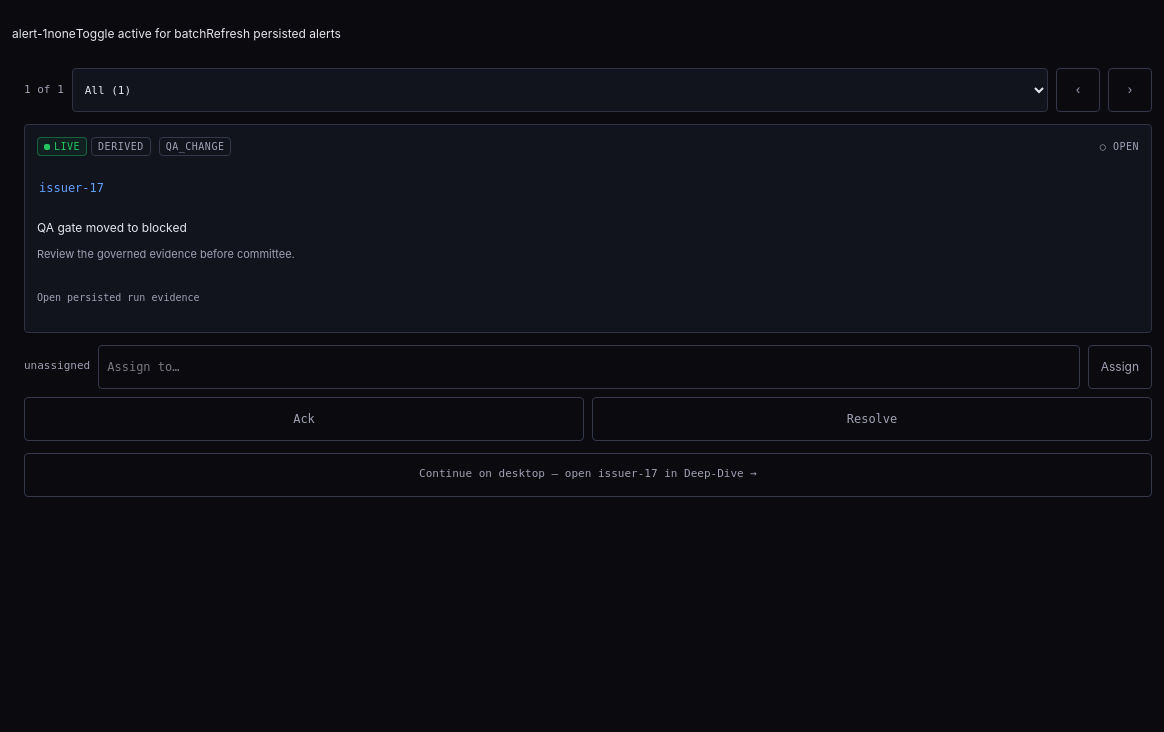
PhoneTriage · persisted controller › preserves failed mutation input, fences rapid duplicates, and retries the current phone intent
The width and height of the screenshot is (1164, 732).
Expected: the heading "QA gate moved to blocked" is shown, left=37, top=220, right=187, bottom=235
Type "Sam" into the field named "Alert assignee".
click(589, 367); type("Sam")  # box left=98, top=345, right=1080, bottom=389
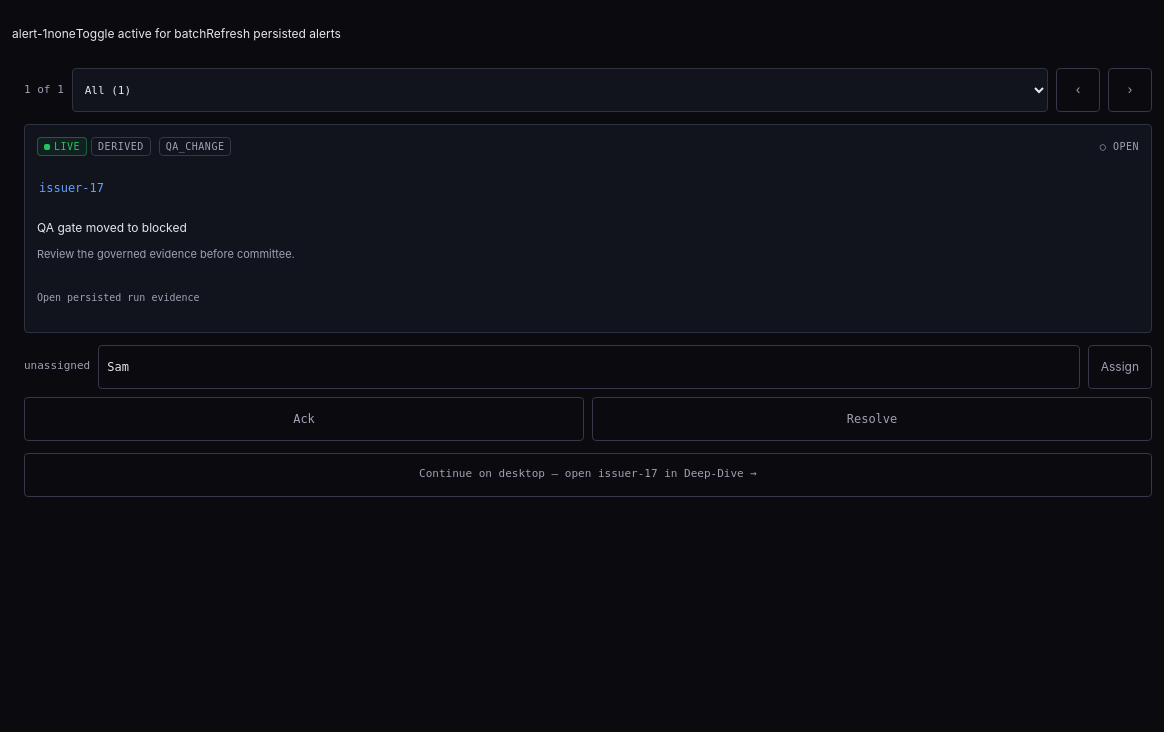
Click the button "Assign".
click(1120, 367)  # box left=1088, top=345, right=1152, bottom=389
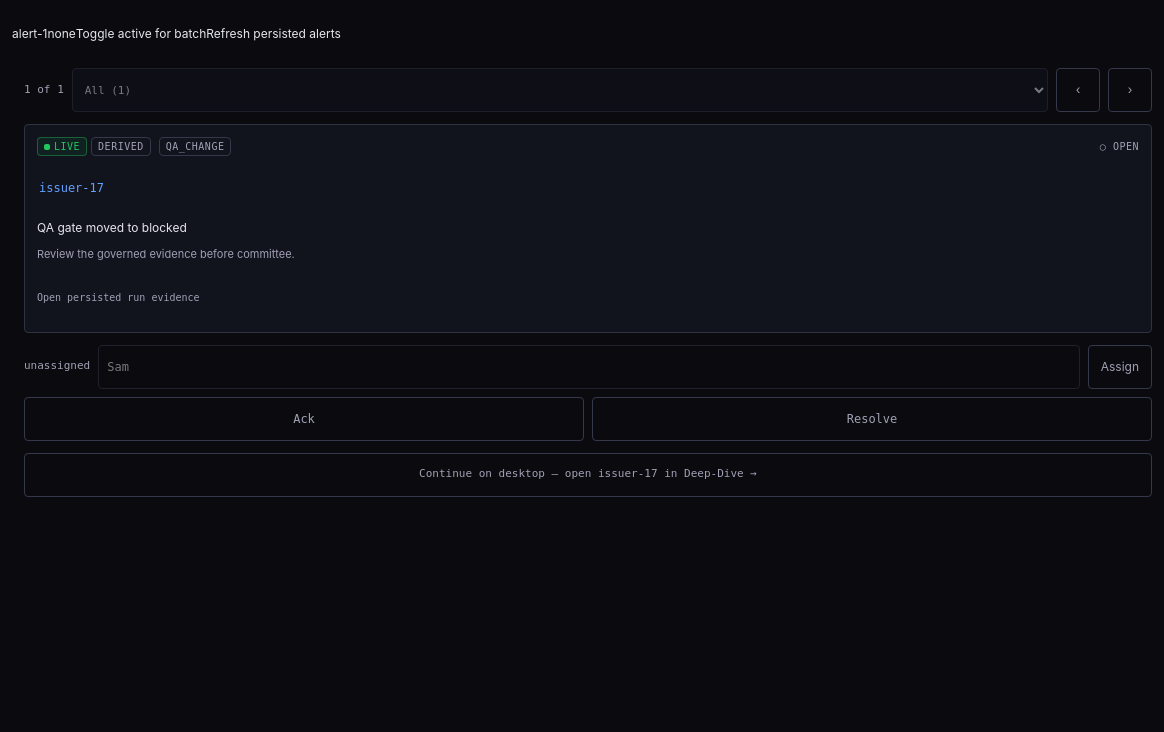
Click the button "Assign".
click(1120, 367)  # box left=1088, top=345, right=1152, bottom=389
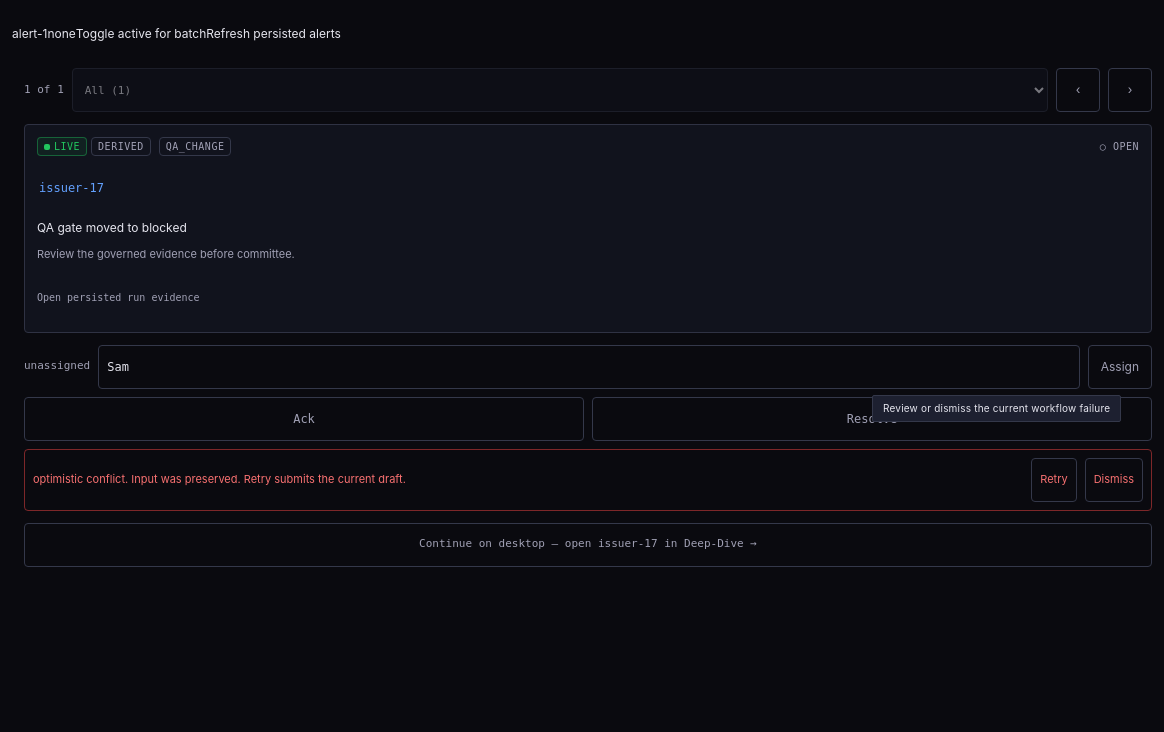
Replace the text in the field named "Alert assignee" with "Priya" at (589, 367), box left=98, top=345, right=1080, bottom=389
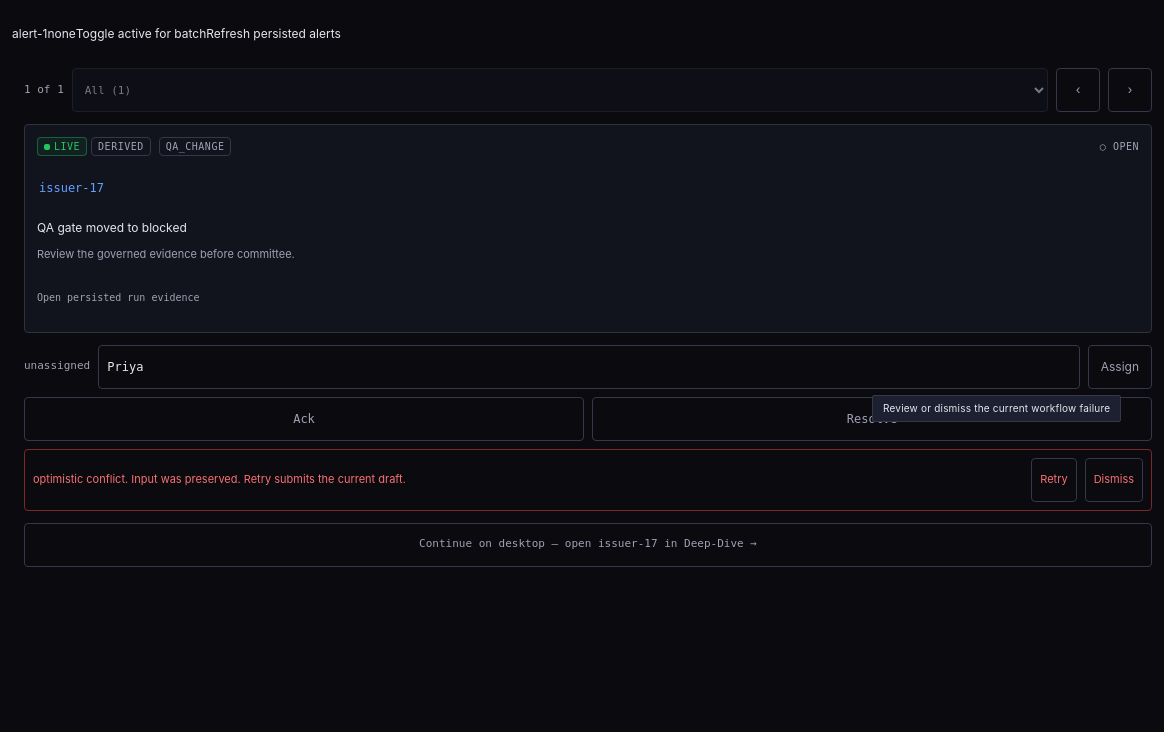
Expected: the message that starts with "optimistic conflict" shows "Retry submits the current draft", left=128, top=472, right=406, bottom=486
Click the button "Retry".
click(1054, 480)  # box left=1031, top=458, right=1077, bottom=502
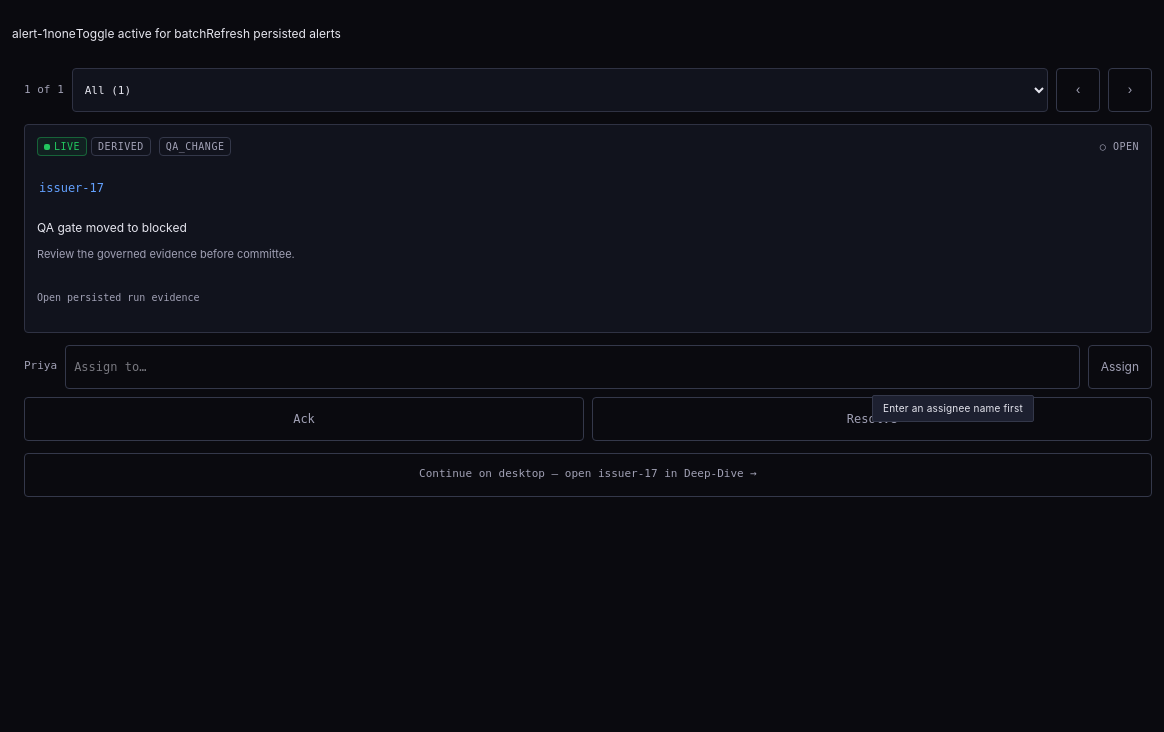
Expected: the text "Priya" is shown, left=24, top=358, right=57, bottom=375
Expected: the field named "Alert assignee" is empty, left=65, top=345, right=1080, bottom=389
